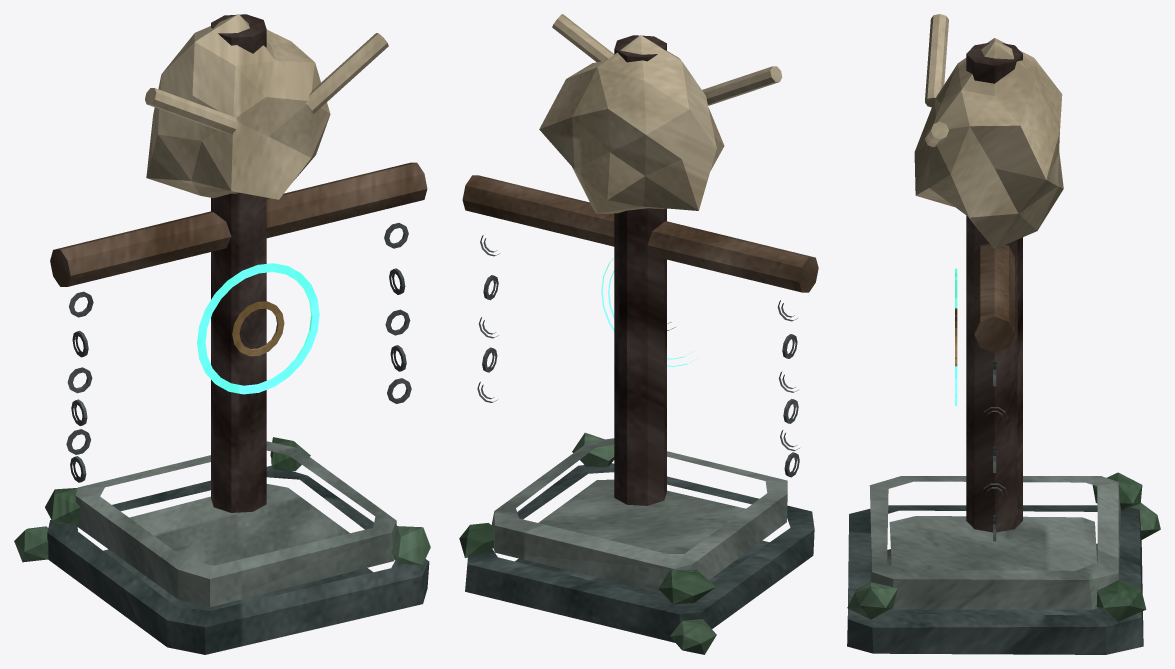
Rendered from 0521_effigy_21.glb.
3 views of the same model, side by side, from view 1: azimuth 30°, elevation 25°; view 2: azimuth 150°, elevation 25°; view 3: azimuth 270°, elevation 25° (orthographic). The views are drawn at different scales.
Visible parts, largest first — view 1: bone, stone, stone_dark, wood_dark, wood, moss, iron, glow, brass; view 2: bone, stone, stone_dark, wood_dark, wood, moss, iron; view 3: stone, bone, stone_dark, wood_dark, wood, moss, iron.
Part boxes in pixels (<box>): bone: <box>145,14,388,199</box>; stone: <box>75,441,396,607</box>; stone_dark: <box>47,465,429,654</box>; wood_dark: <box>211,14,266,512</box>; wood: <box>50,162,427,286</box>; moss: <box>14,437,430,565</box>; iron: <box>66,223,411,482</box>; glow: <box>197,263,319,394</box>; brass: <box>232,301,284,356</box>; bone: <box>539,14,782,213</box>; stone: <box>491,438,787,593</box>; stone_dark: <box>465,463,814,642</box>; wood_dark: <box>614,35,666,505</box>; wood: <box>462,175,818,292</box>; moss: <box>459,432,716,654</box>; iron: <box>477,235,799,477</box>; stone: <box>869,476,1120,609</box>; bone: <box>914,14,1063,249</box>; stone_dark: <box>847,505,1143,654</box>; wood_dark: <box>966,42,1022,532</box>; wood: <box>974,244,1014,352</box>; moss: <box>847,472,1160,621</box>; iron: <box>981,360,1007,541</box>.
Size of the model in its own units: 2 by 3.04 by 1.55.
9 materials, 9 textured.
